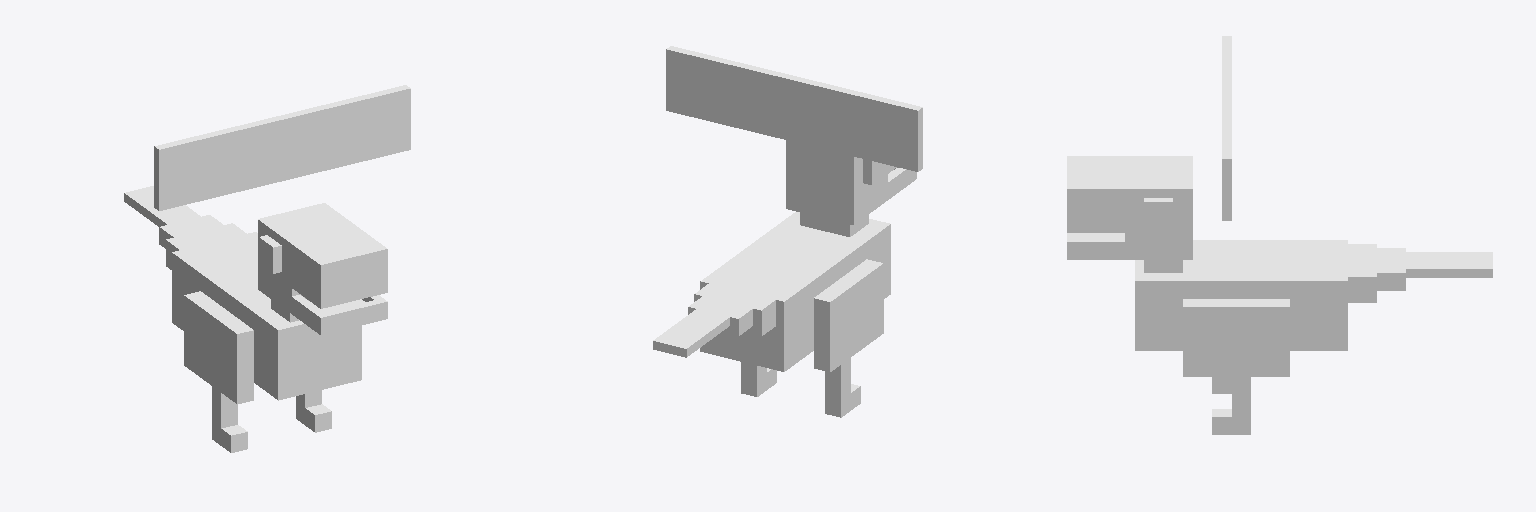
File: dino-q3-d.obj
3 renders of one model, left to right at view 1: azimuth 30°, elevation 25°; view 2: azimuth 150°, elevation 25°; view 3: azimuth 270°, elevation 25°, orthographic.
Parts seen in each view (by area): view 1: Matrix_32; view 2: Matrix_32; view 3: Matrix_32.
Boxes of the visible parts, <box> form: Matrix_32: <box>124,85,410,452</box>; Matrix_32: <box>653,46,922,417</box>; Matrix_32: <box>1067,36,1492,434</box>.
Bounding box in the file's own units: 30 × 36 × 44.